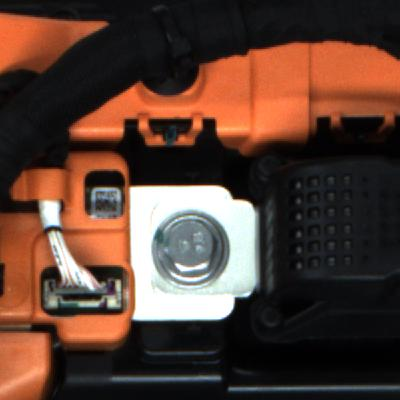nut_b: (142, 204, 239, 296)
